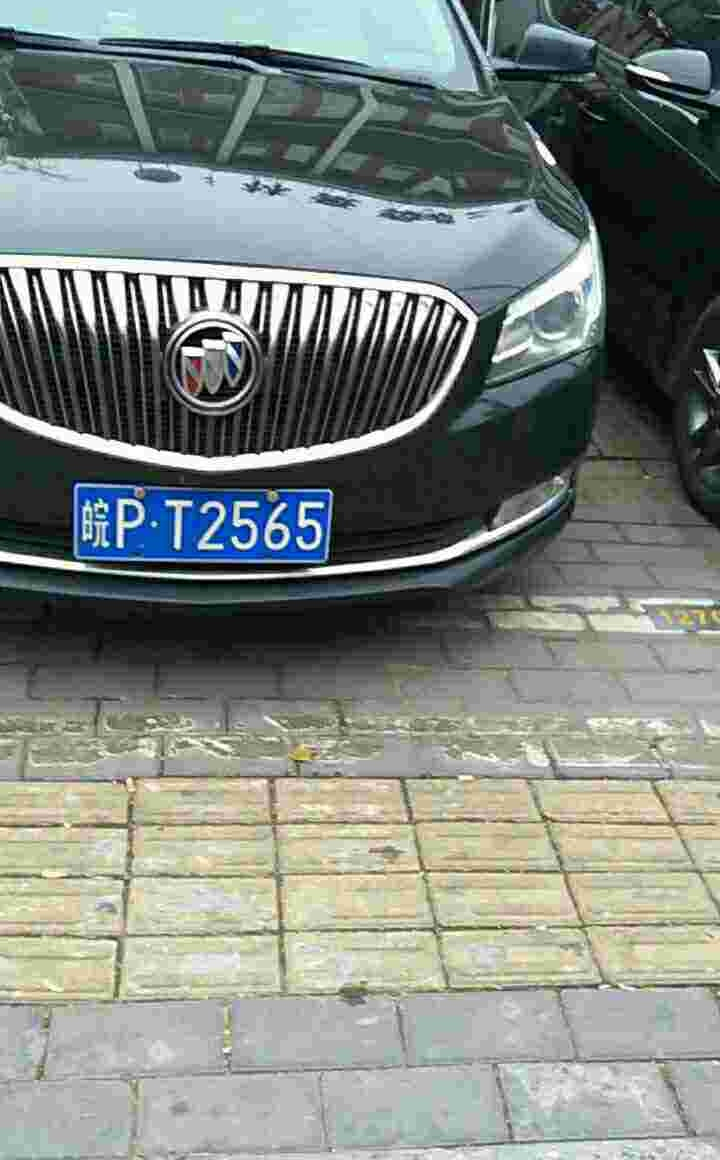license_plate: (74, 487, 323, 564)
